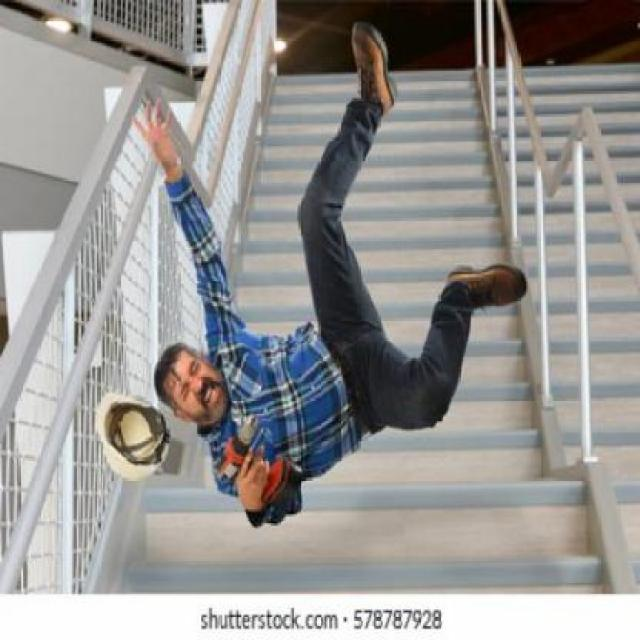fall: (135, 33, 532, 524)
